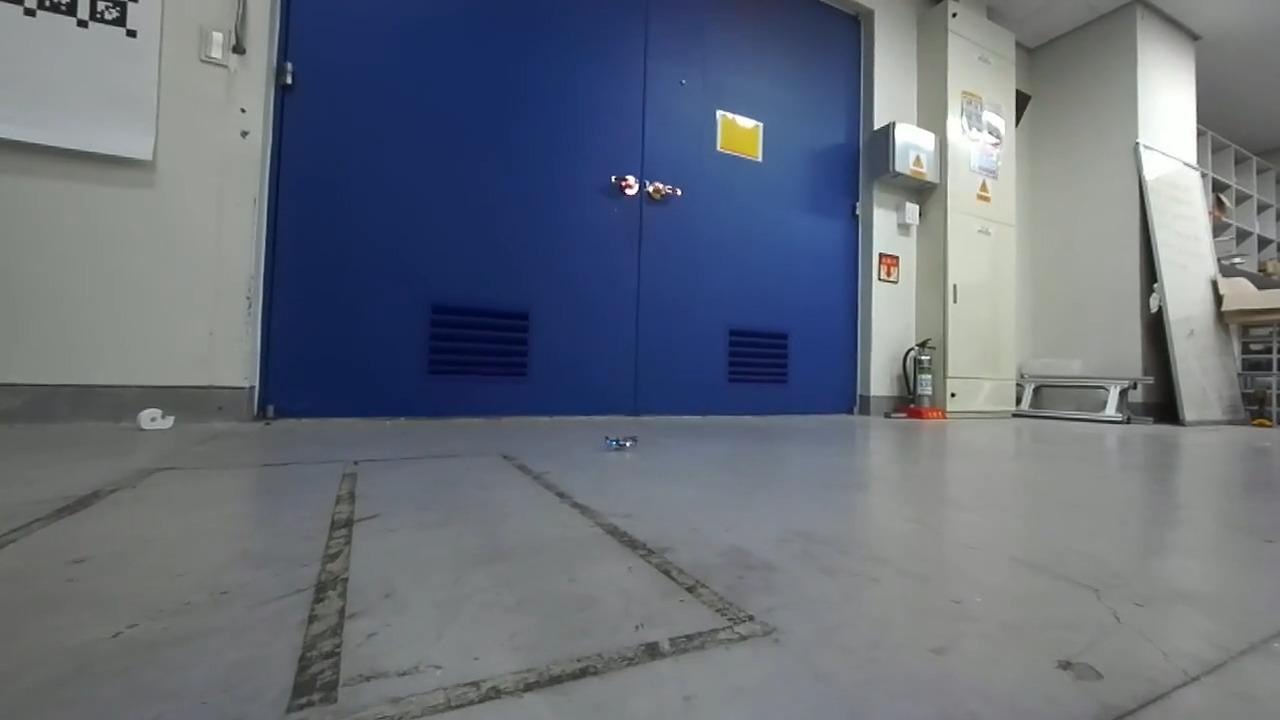crazyflie: (592, 429, 647, 456)
